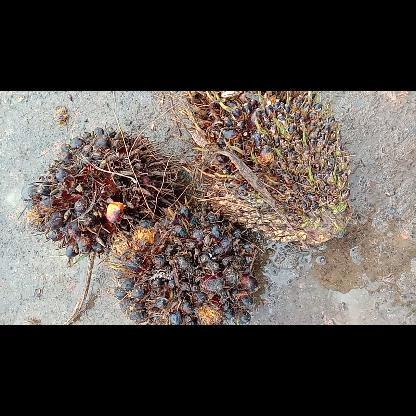TBS abnormal: (172, 91, 352, 249), (28, 126, 186, 258), (108, 198, 262, 324)
